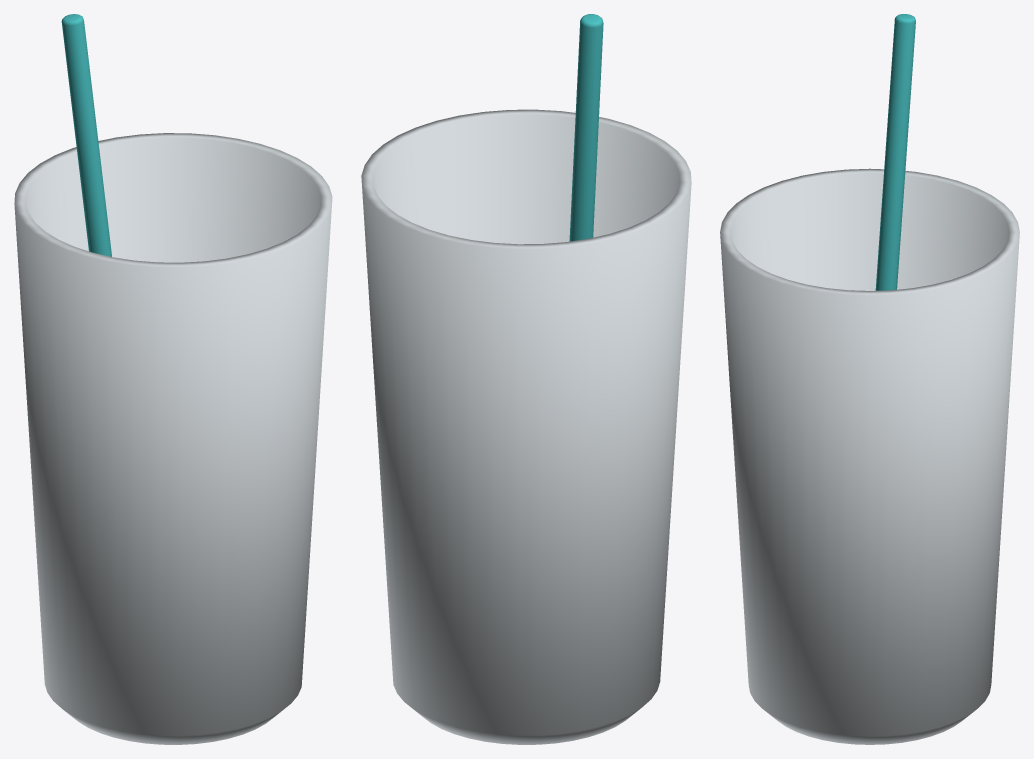
The model's file is used_dish_batida.glb.
The picture shows the model from 3 angles, left to right: view 1: azimuth 30°, elevation 25°; view 2: azimuth 150°, elevation 25°; view 3: azimuth 270°, elevation 25°; orthographic projection. The views are drawn at different scales.
Visible parts, largest first — view 1: Used_dish_batida; view 2: Used_dish_batida; view 3: Used_dish_batida.
Part boxes in pixels (x1,y1,x2,y2): Used_dish_batida: (14,14,332,744); Used_dish_batida: (361,14,691,744); Used_dish_batida: (720,14,1019,744).
Size of the model in its own units: 0.084 by 0.2002 by 0.084.
